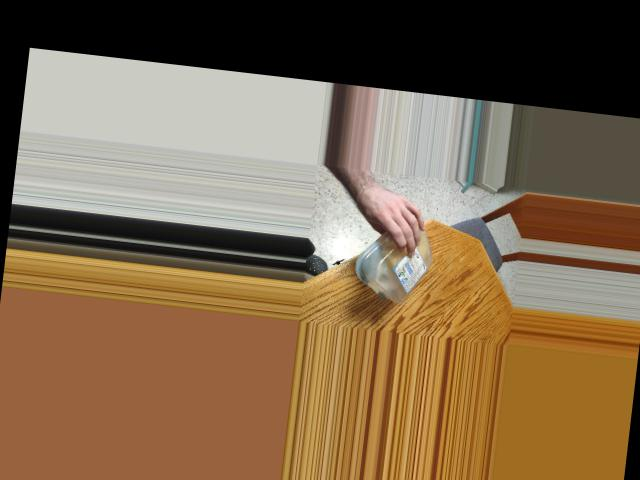cheese: (356, 204, 439, 308)
